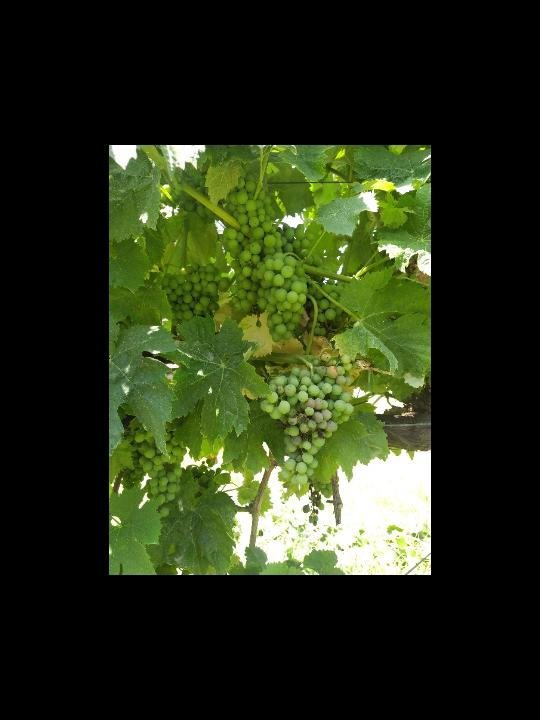grape: (222, 173, 312, 343), (259, 356, 353, 485), (121, 427, 189, 518), (160, 265, 226, 336)
